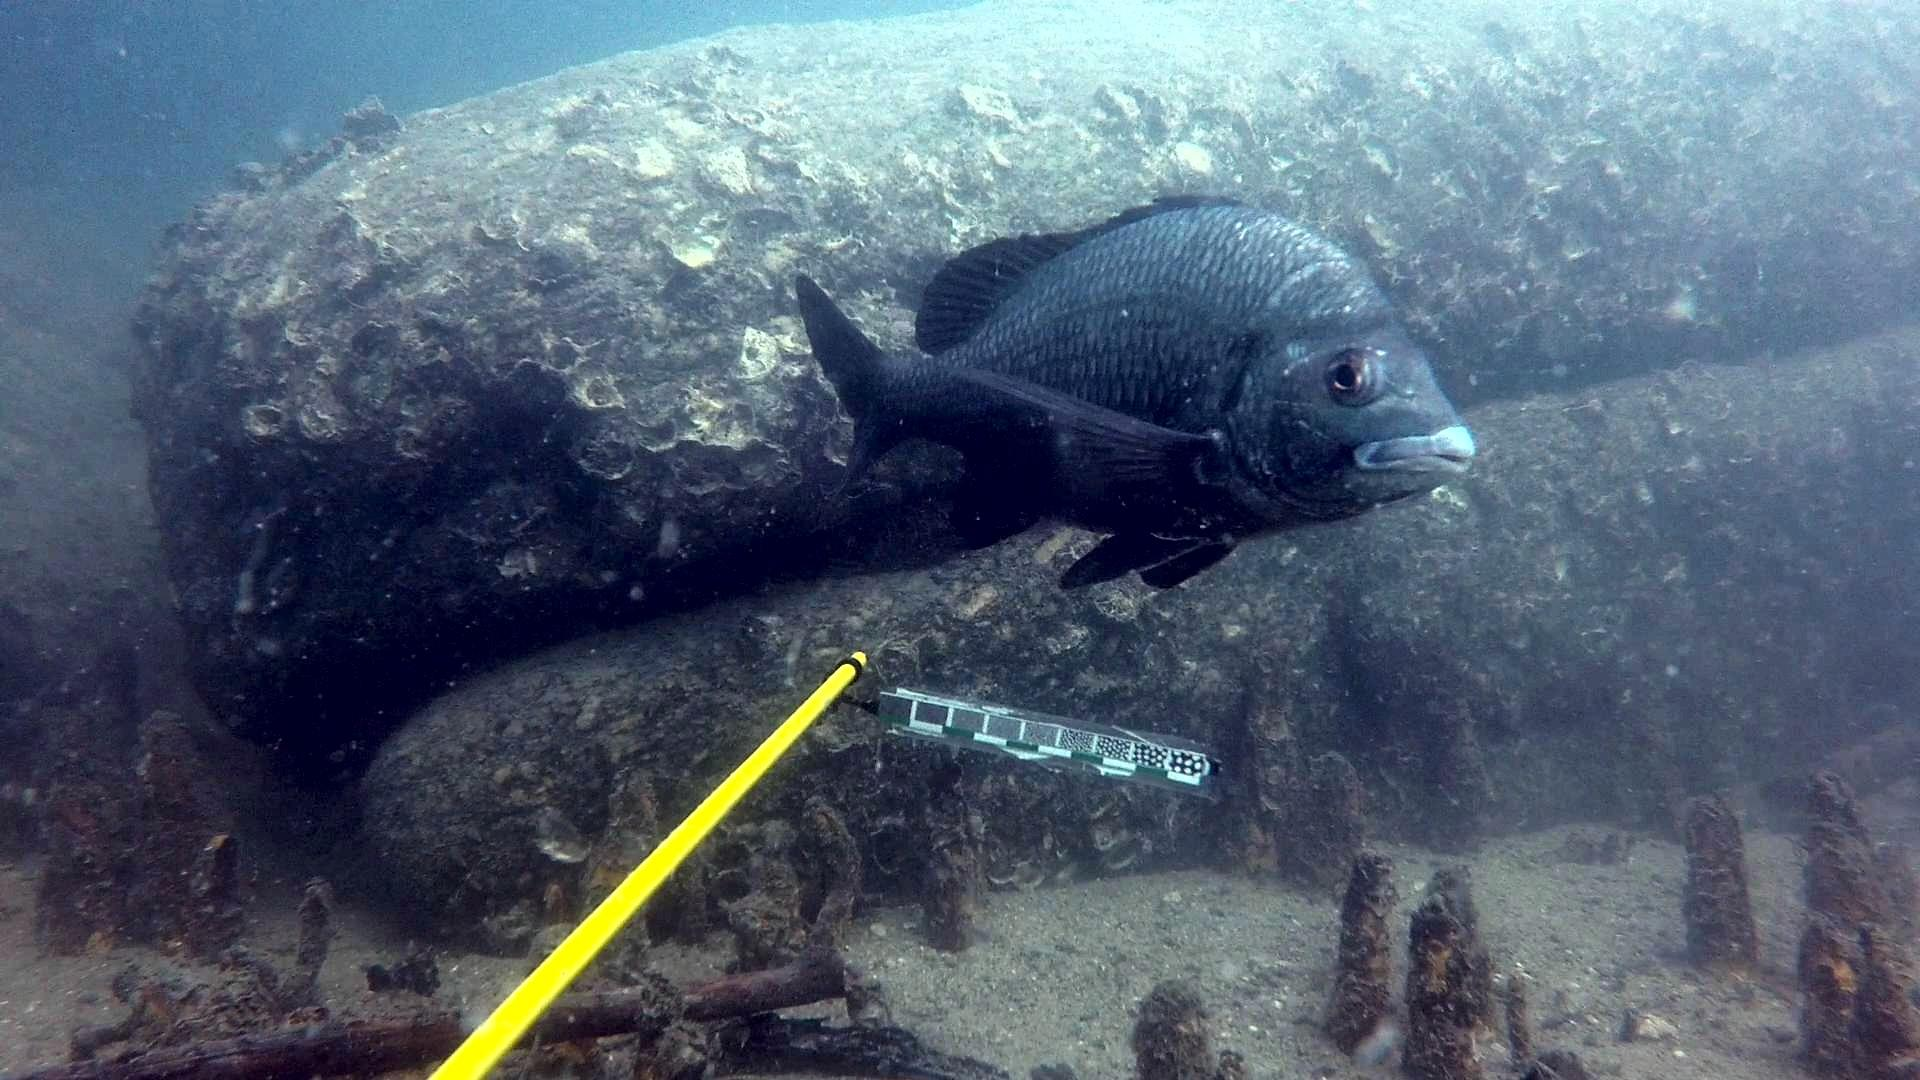acanthopagrus palmaris: (775, 183, 1483, 592)
